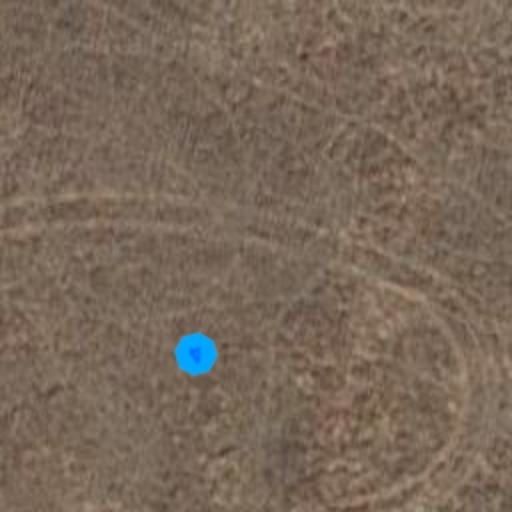octagon: (164, 322, 228, 386)
